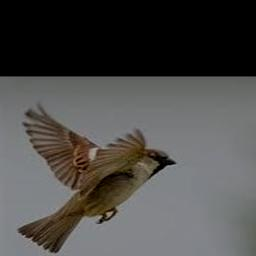Sparrow: (18, 102, 177, 253)
